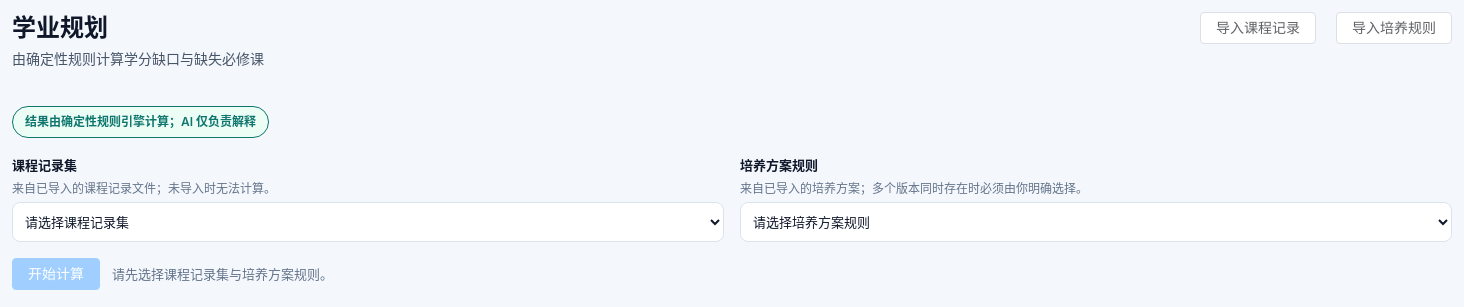
Scenario: PlanningView selection and url › keeps the calculate button disabled until both ids are chosen
The width and height of the screenshot is (1464, 307).
Select "课程记录 rs-1 · 2026-09-01 00:00:00 · ready" in the dropdown with class "ep-selection__record" at (368, 222), box [12, 202, 724, 242]
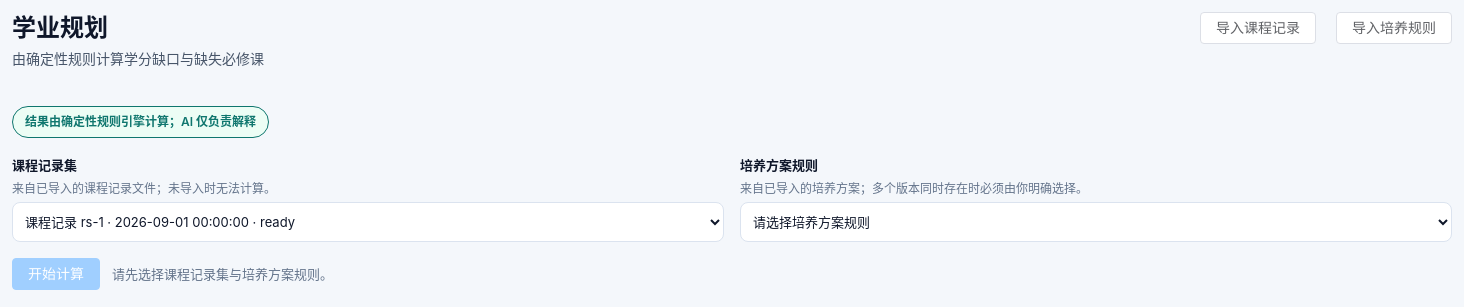
Expected: the button "开始计算" is disabled, [12, 258, 100, 290]
Select "培养方案 ru-1 · 计算机科学与技术 · 2026 · v-ru-1 · 2026-09-01 · ready" in the dropdown with class "ep-selection__rule" at (1096, 222), box [740, 202, 1452, 242]
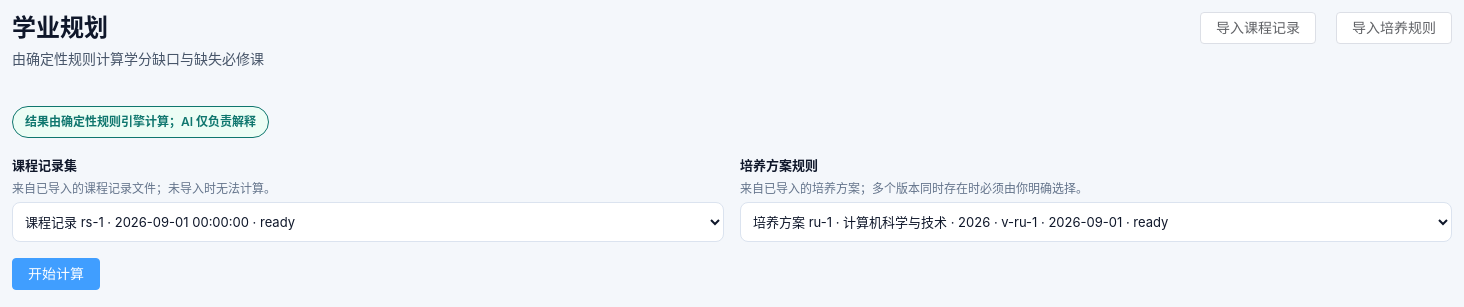
Expected: the button "开始计算" is enabled, [12, 258, 100, 290]
